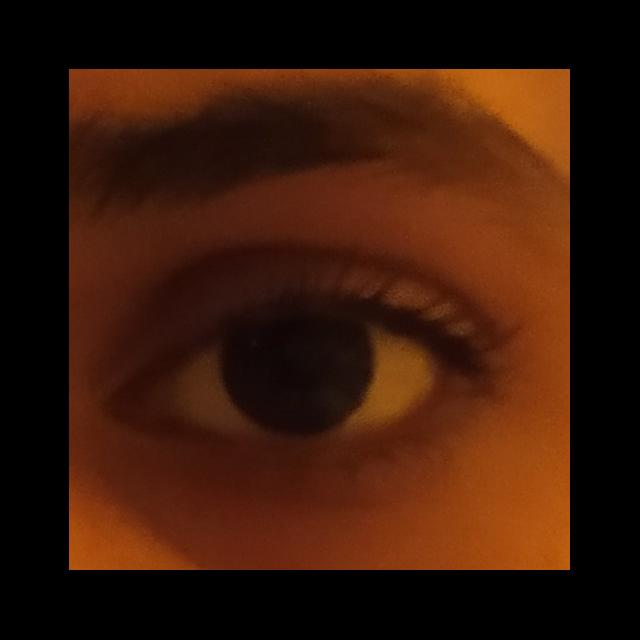eye: (165, 307, 445, 442)
iris: (218, 313, 377, 437)
